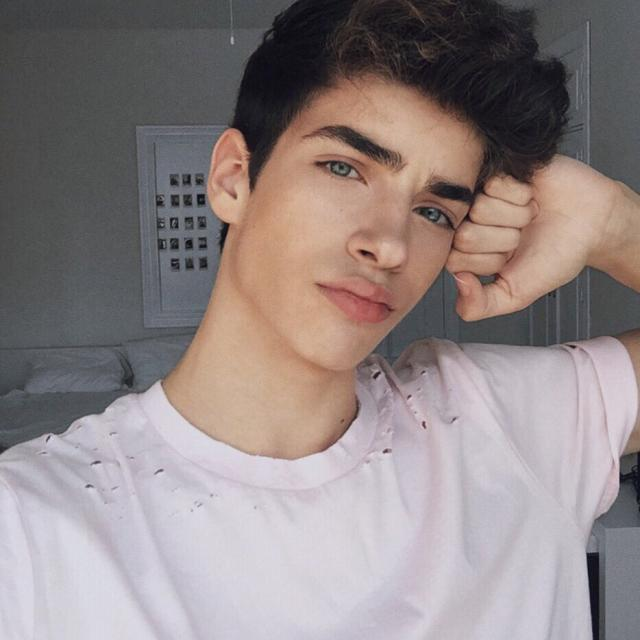earlobe: (215, 194, 243, 225)
eye: (314, 159, 368, 184), (411, 202, 455, 230)
nose: (349, 250, 412, 287)
wholeear: (207, 128, 250, 225)
